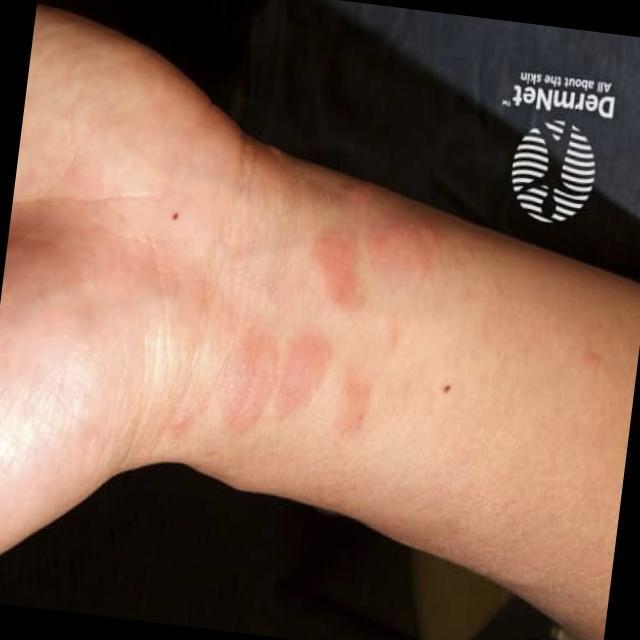Eczema: (211, 199, 442, 466)
